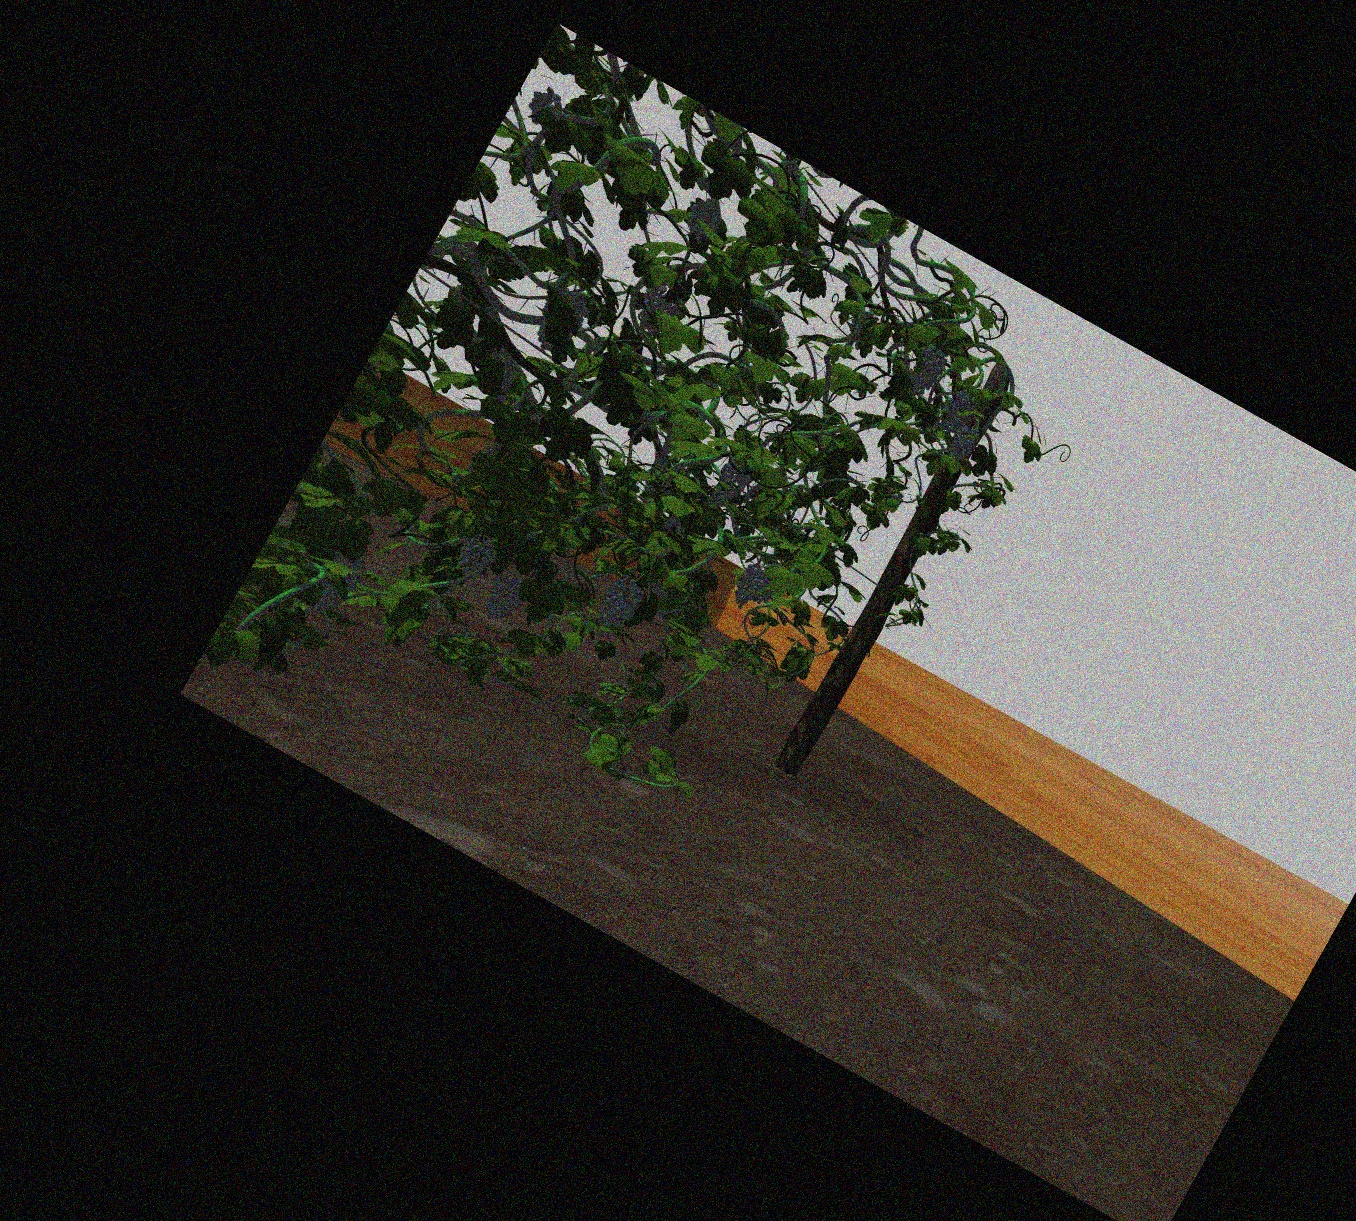grape: (317, 552, 353, 614), (487, 567, 523, 620), (603, 576, 635, 628), (458, 536, 491, 577), (911, 346, 939, 394), (684, 200, 720, 235), (944, 392, 972, 434), (529, 88, 562, 123), (717, 462, 748, 499), (735, 565, 759, 607), (951, 427, 972, 461)
